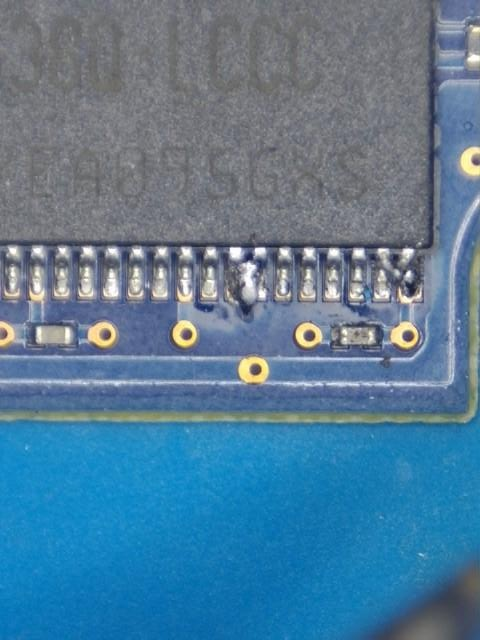pcb_defect: (372, 248, 420, 299), (226, 247, 269, 303)
